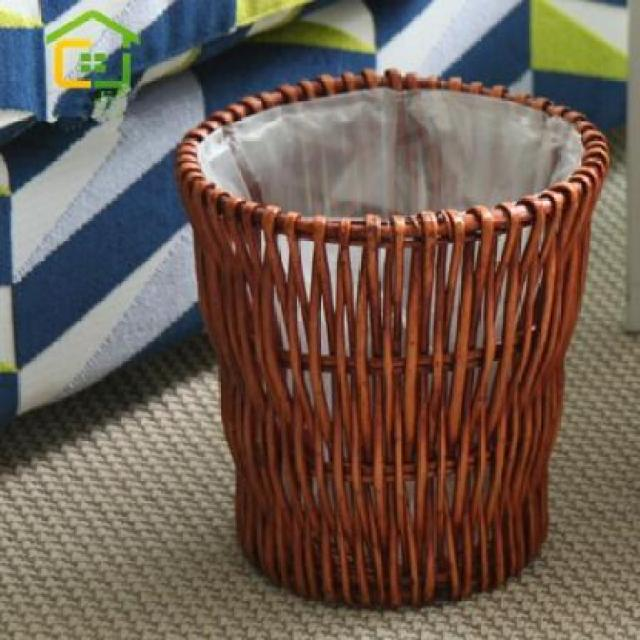dustbin: (169, 61, 615, 614)
